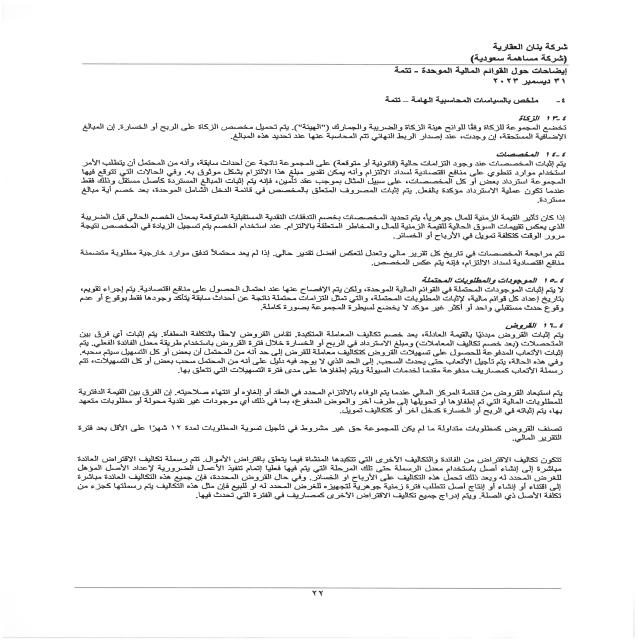notes: (373, 63, 578, 78)
text: (53, 94, 572, 524)
